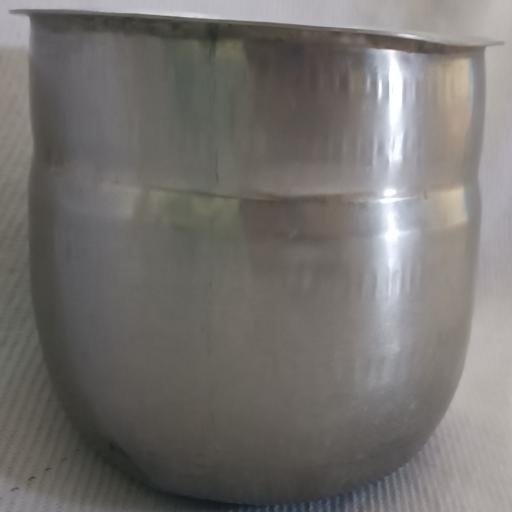vessel: (24, 11, 487, 503)
